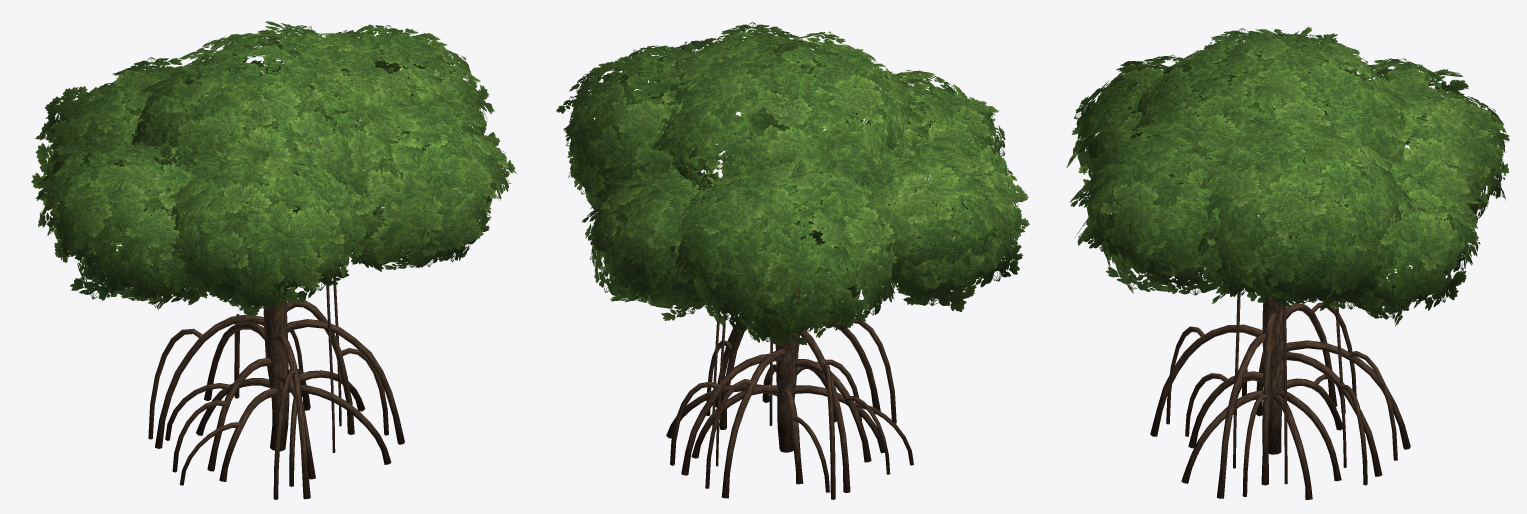
The model's file is mangrove_a.glb.
The picture shows the model from 3 angles, left to right: view 1: azimuth 30°, elevation 25°; view 2: azimuth 150°, elevation 25°; view 3: azimuth 270°, elevation 25°; orthographic projection.
Parts seen in each view (by area): view 1: leaves, wood; view 2: leaves, wood; view 3: leaves, wood.
Boxes of the visible parts, box(x1,y1,x2,y2) form: leaves: box(31, 21, 517, 316); wood: box(148, 139, 404, 499); leaves: box(556, 22, 1029, 345); wood: box(666, 137, 921, 499); leaves: box(1066, 27, 1509, 325); wood: box(1150, 195, 1410, 499).
Size of the model in its own units: 8.59 by 7.58 by 7.49.
Materials: 2 (2 with a texture image).
